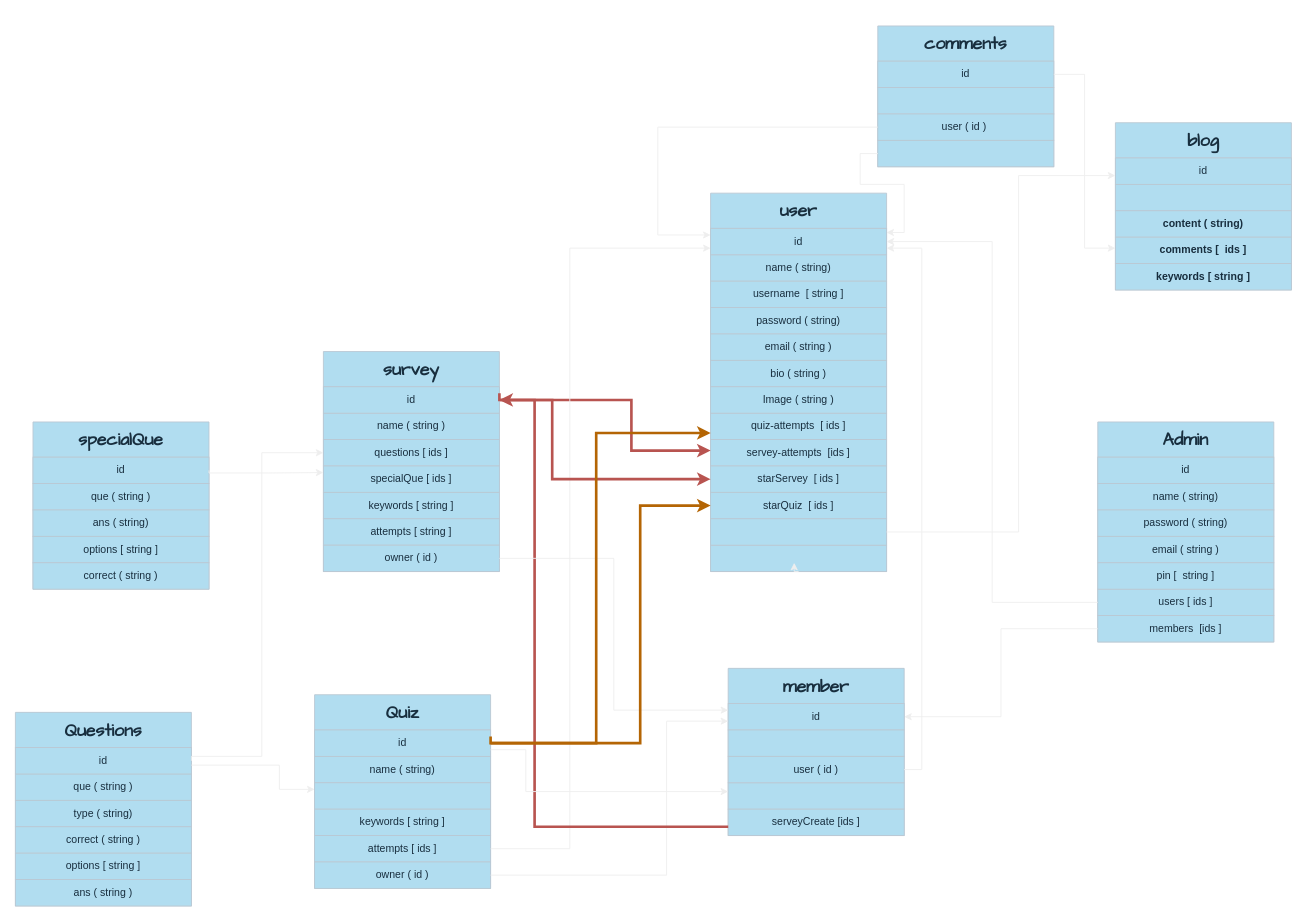
Some shapes in this 1307 by 921 pixel diagram are drawn without their labels. Each missing label, with the centre of its shape:
"blogs [ ids ]" belongs at [798,531].
"comment ( string)" belongs at [965,100].
"heading ( string)" belongs at [1203,197].
"intrests [ string ]" belongs at [798,558].
"likes [ ids ]" belongs at [965,153].
"loginId ( string)" belongs at [815,742].
"queistions [ ids ]" belongs at [402,795].
"quizCreate [ ids ]" belongs at [815,795].
